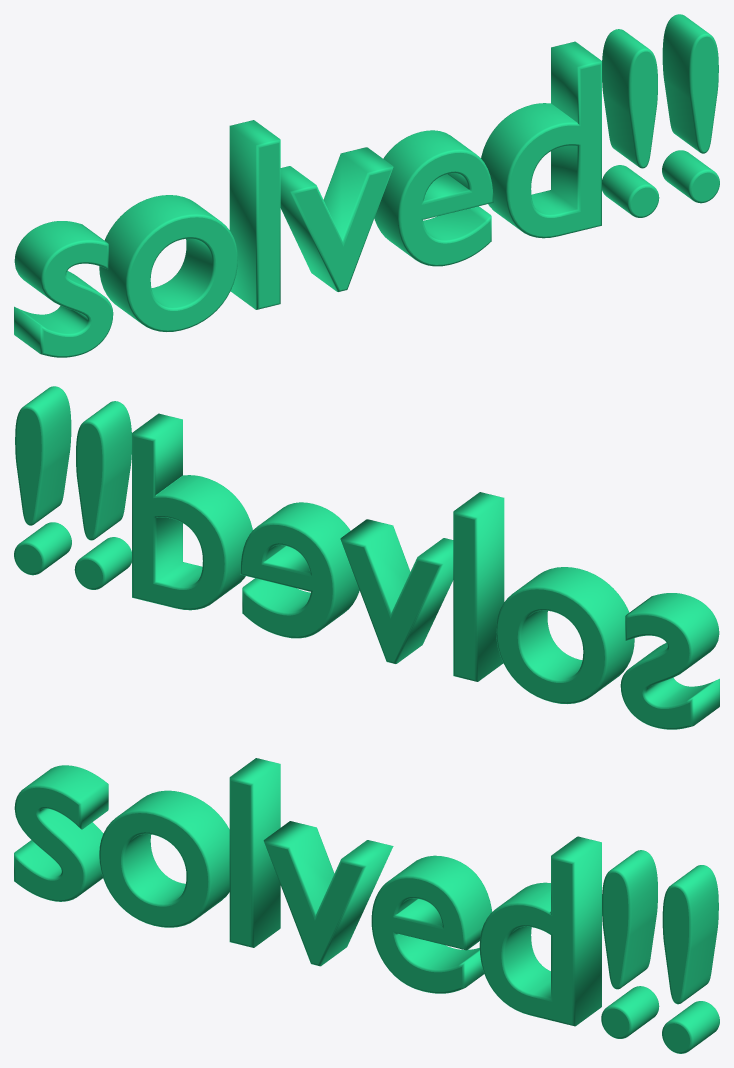
Rendered from solved.glb.
The picture shows the model from 3 angles, top to bottom: view 1: azimuth 30°, elevation 25°; view 2: azimuth 150°, elevation 25°; view 3: azimuth 330°, elevation 25°; orthographic projection.
Visible parts, largest first — view 1: Text; view 2: Text; view 3: Text.
Part boxes in pixels (box(x1,y1,x2,y2)): Text: box(14, 14, 719, 357); Text: box(14, 386, 719, 729); Text: box(14, 758, 719, 1053).
Size of the model in its own units: 3.03 by 0.7201 by 0.22.
